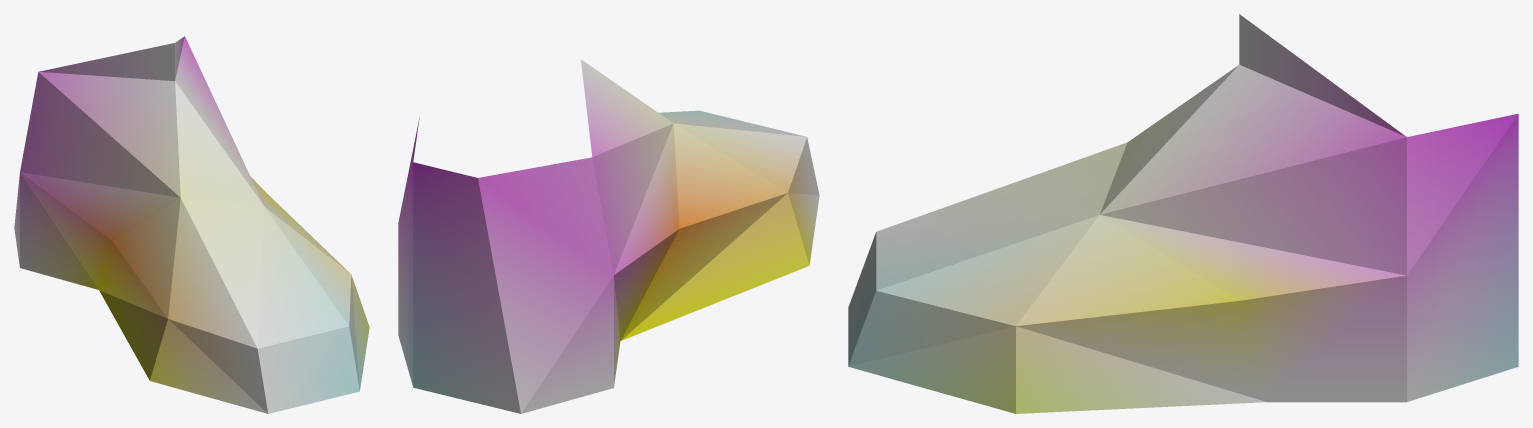
3 views of the same model, side by side, from view 1: azimuth 30°, elevation 25°; view 2: azimuth 150°, elevation 25°; view 3: azimuth 270°, elevation 25° (orthographic). The views are drawn at different scales.
Visible parts, largest first — view 1: model_1179; view 2: model_1179; view 3: model_1179.
Boxes of the visible parts, x1,y1,x2,y2 form: model_1179: [14, 36, 369, 413]; model_1179: [398, 59, 819, 413]; model_1179: [848, 14, 1518, 413].
Size of the model in its own units: 12 by 13 by 24.
